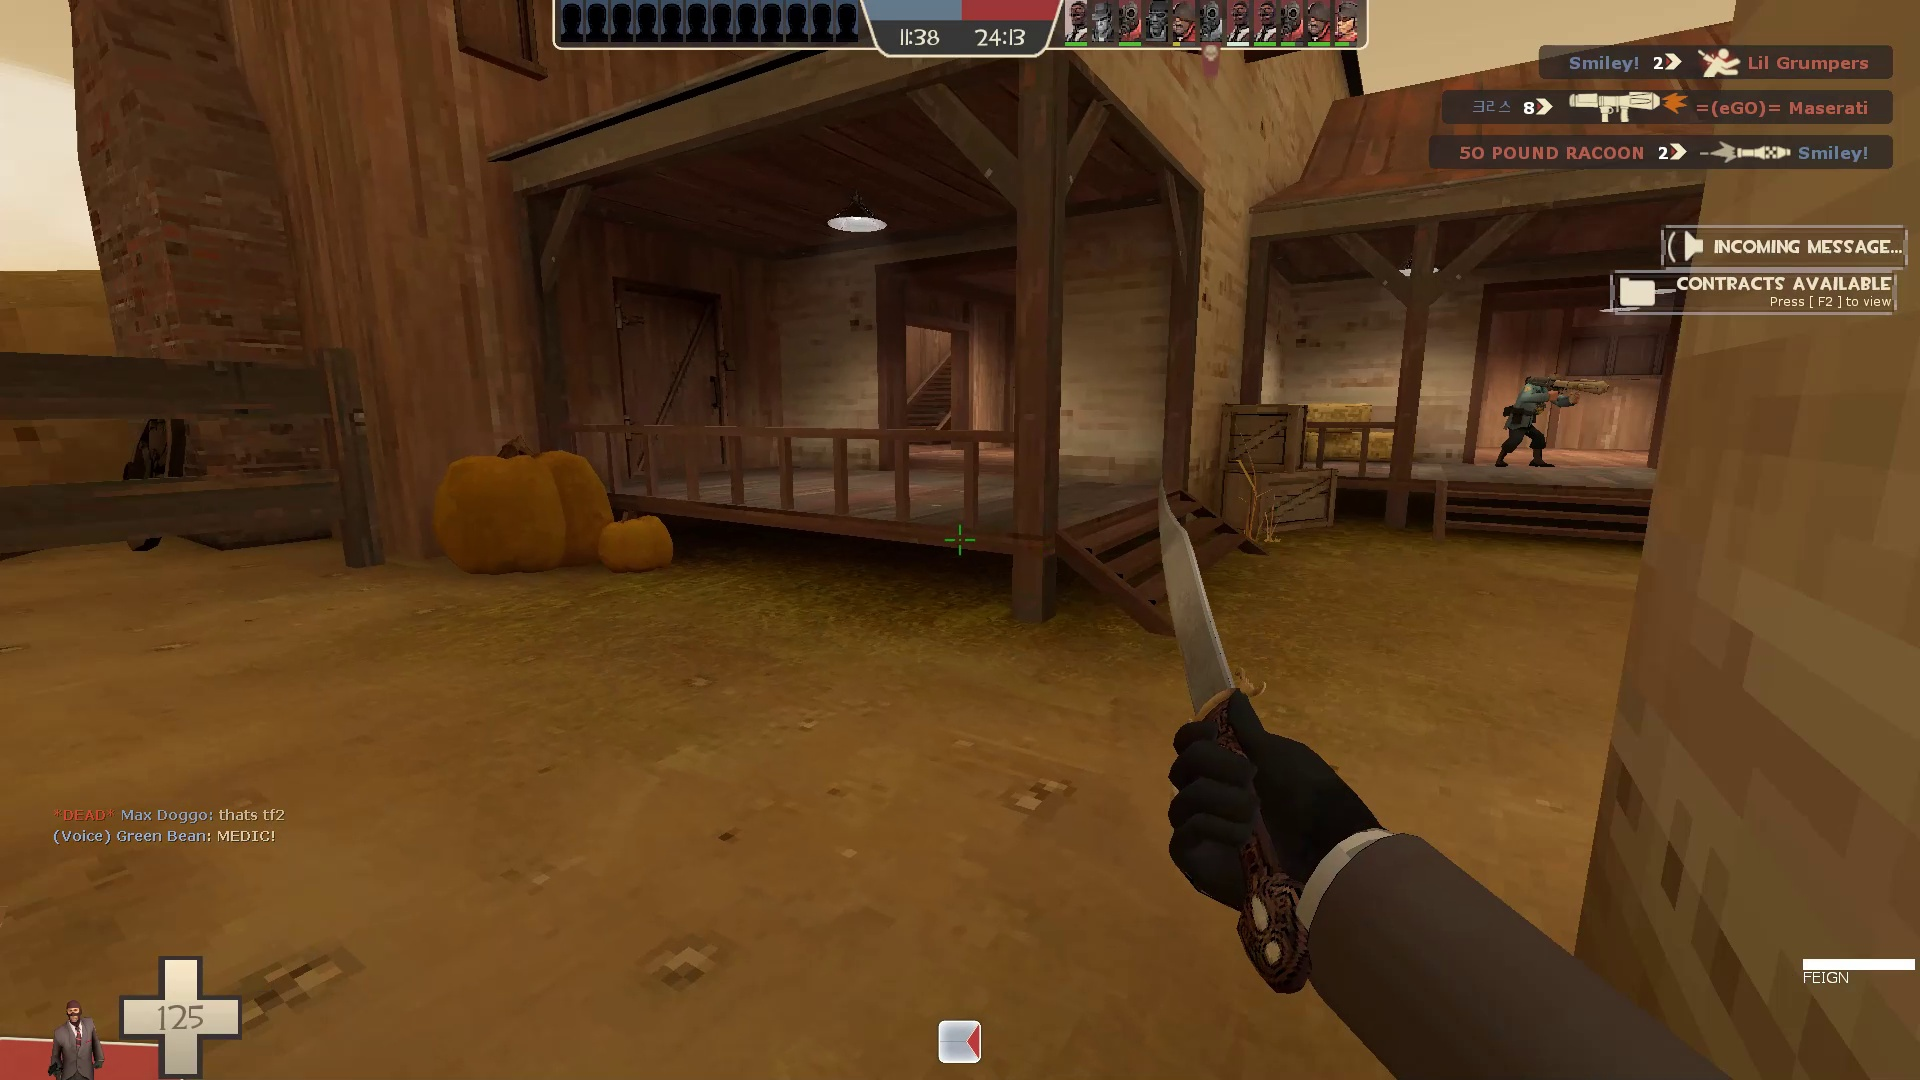blu_soldier: (1486, 365, 1614, 473)
